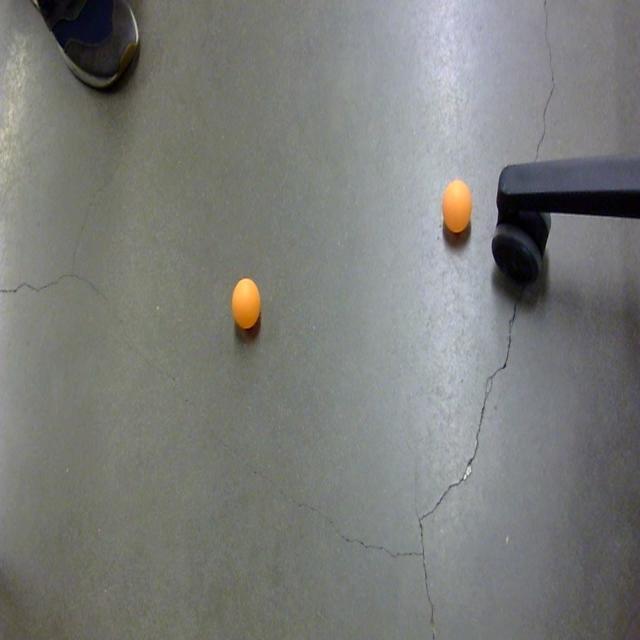ball: (441, 179, 474, 242), (231, 276, 263, 335)
